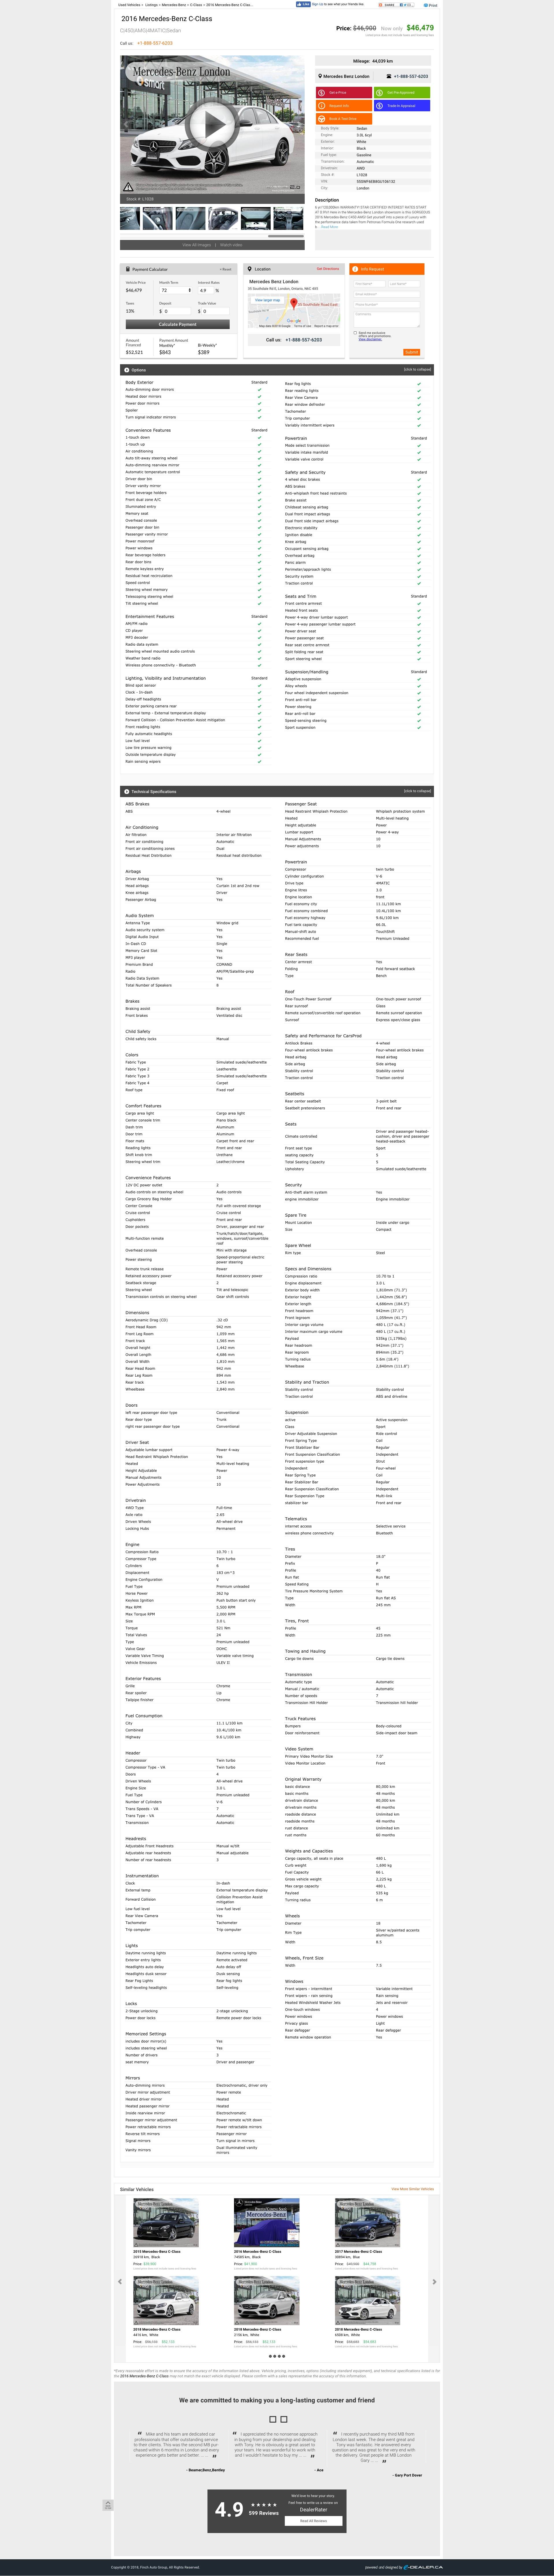car: (298, 122, 302, 128)
